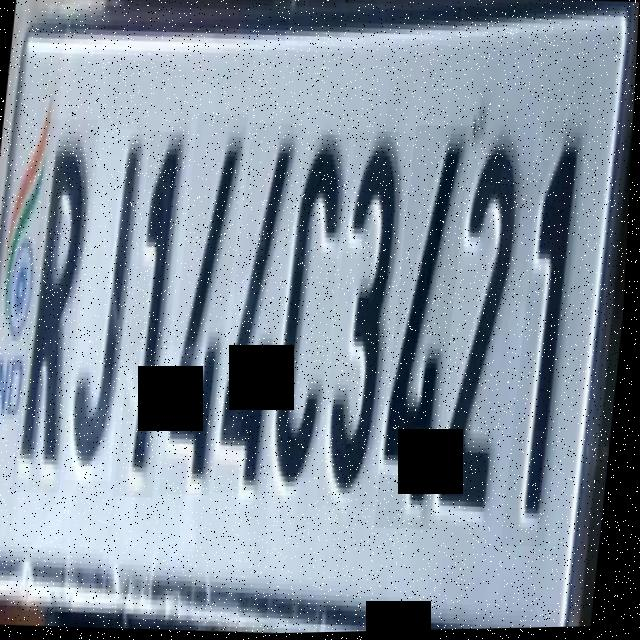1: (507, 123, 591, 551), (120, 132, 193, 500)
3: (321, 131, 415, 512)
4: (380, 126, 474, 532), (164, 113, 250, 497), (219, 123, 305, 496)
C: (274, 135, 352, 480)
J: (70, 128, 148, 483)
R: (17, 118, 99, 494)
